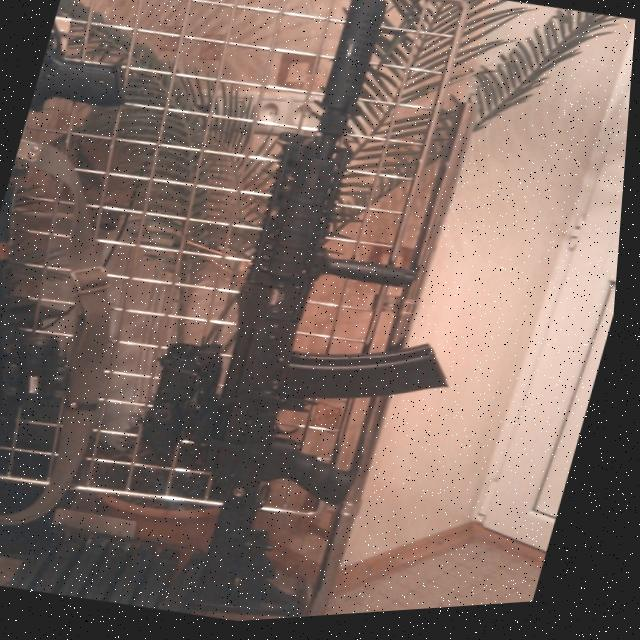firearm: (92, 0, 552, 633)
